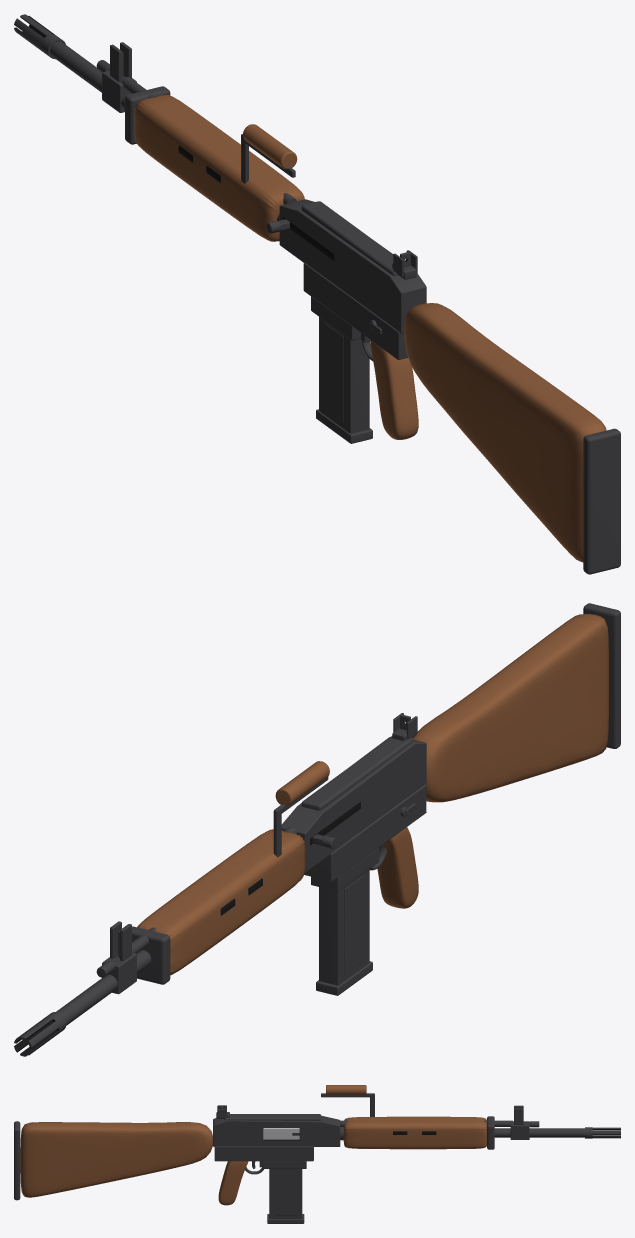
File: fal.glb
The picture shows the model from 3 angles, top to bottom: view 1: azimuth 30°, elevation 25°; view 2: azimuth 150°, elevation 25°; view 3: azimuth 270°, elevation 25°; orthographic projection. The views are drawn at different scales.
Parts seen in each view (by area): view 1: receiver, mag; view 2: receiver, mag; view 3: receiver, mag, bolt.
Part boxes in pixels (x1,y1,x2,y2): receiver: [14, 14, 620, 574]; mag: [316, 317, 372, 443]; receiver: [14, 603, 620, 1056]; mag: [316, 869, 372, 995]; receiver: [14, 1085, 620, 1205]; mag: [267, 1169, 304, 1223]; bolt: [263, 1128, 299, 1139].
Size of the model in its own units: 0.0678 by 0.3025 by 1.27.
